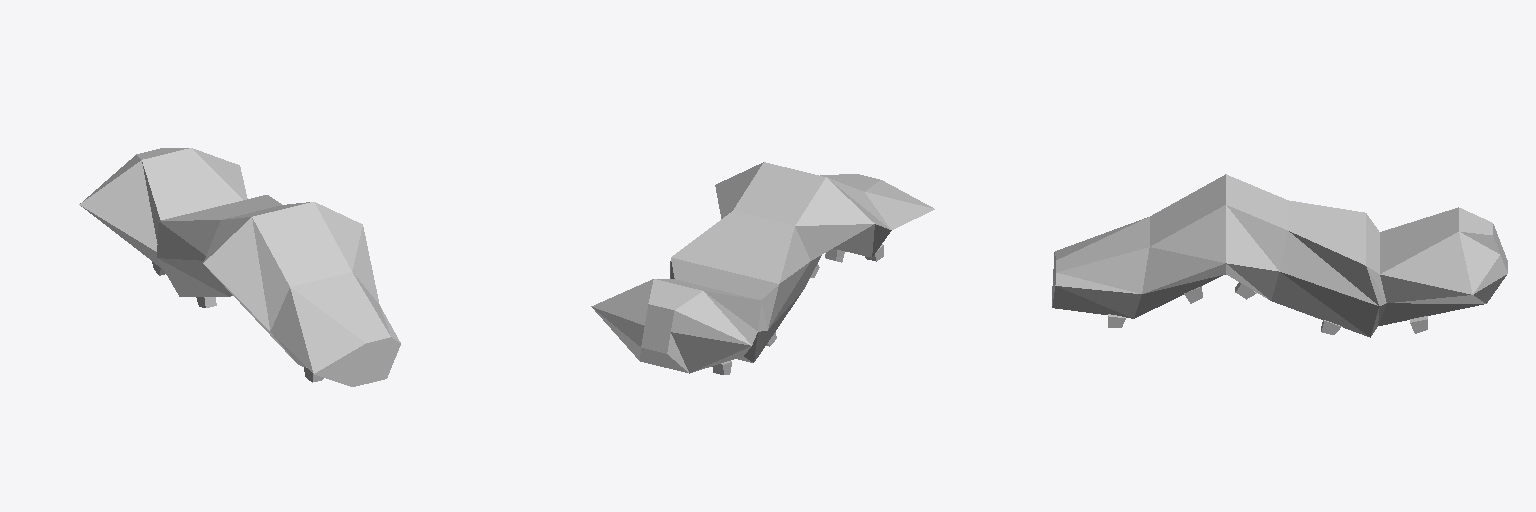
File: caterpillar.obj
The picture shows the model from 3 angles: view 1: azimuth 30°, elevation 25°; view 2: azimuth 150°, elevation 25°; view 3: azimuth 270°, elevation 25°; orthographic projection.
Parts seen in each view (by area): view 1: caterpillar; view 2: caterpillar; view 3: caterpillar.
Part boxes in pixels (x1,y1,x2,y2): caterpillar: (79,148,400,386); caterpillar: (591,162,934,374); caterpillar: (1052,174,1507,337).
Bounding box in the file's own units: 1.56 × 1.24 × 3.84.